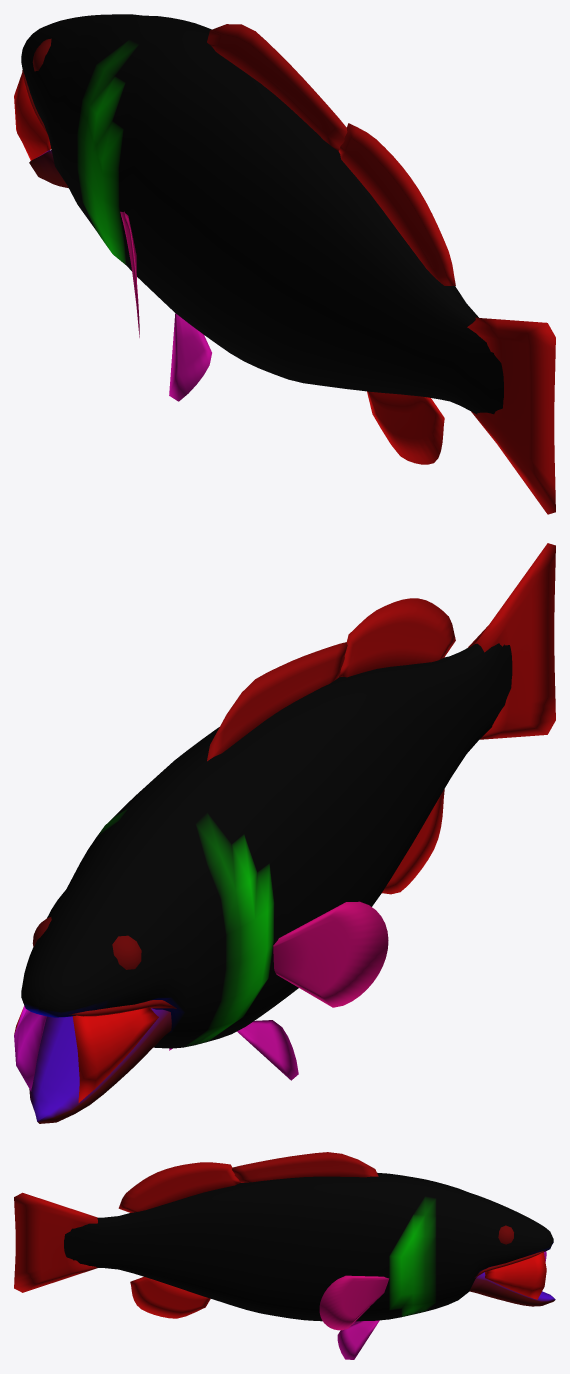
Rendered from grouper_lo.glb.
The picture shows the model from 3 angles, top to bottom: view 1: azimuth 30°, elevation 25°; view 2: azimuth 150°, elevation 25°; view 3: azimuth 270°, elevation 25°; orthographic projection. The views are drawn at different scales.
Parts seen in each view (by area): view 1: grouper_lo; view 2: grouper_lo; view 3: grouper_lo.
Part boxes in pixels (left/top/right/bottom): grouper_lo: left=14, top=14, right=555, bottom=514; grouper_lo: left=14, top=543, right=555, bottom=1123; grouper_lo: left=14, top=1152, right=555, bottom=1359.
Bounding box in the file's own units: 0.3304 × 0.465 × 1.19.
